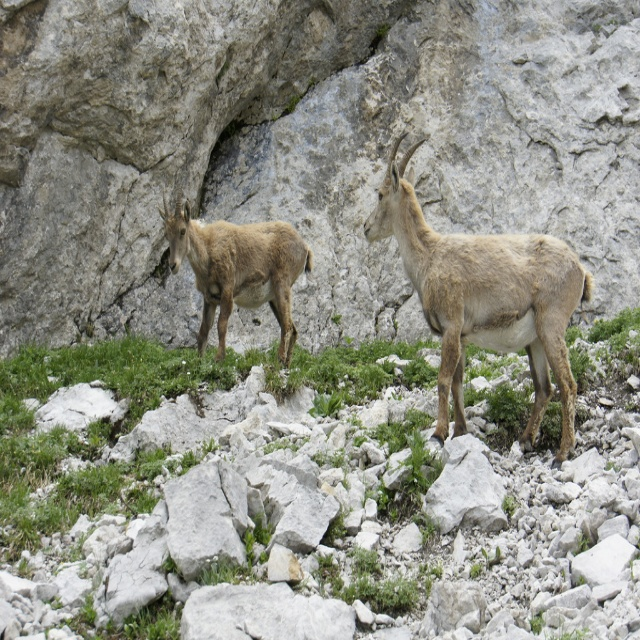Goat: (363, 132, 594, 471), (156, 177, 312, 369)
